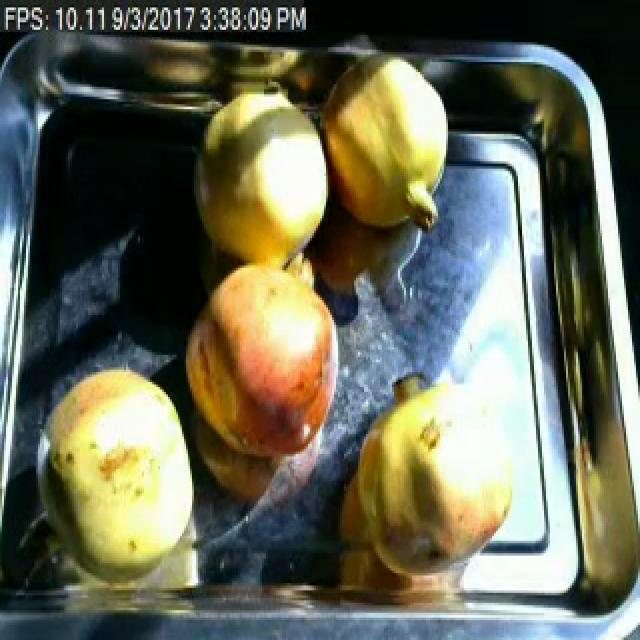fruit: (340, 358, 536, 596), (180, 248, 350, 484), (188, 74, 338, 273), (312, 47, 454, 246), (34, 352, 194, 526)
